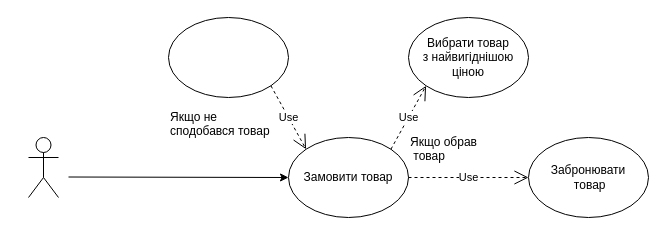
This 666x236 diagram has some shape labels left out. The centre of each missing label's shape, as x and y in pixels:
Не замовляти: point 228,57
Покупець: point 43,167
